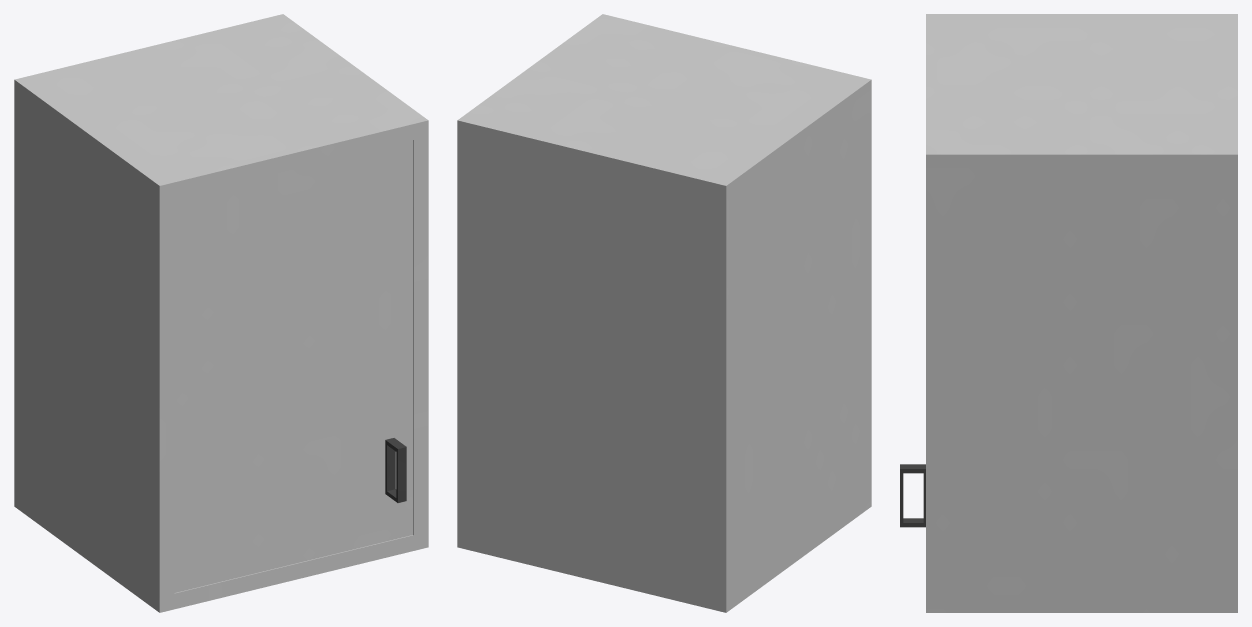
The model's file is Cabinet_03_01.fbx.
3 renders of one model, left to right at view 1: azimuth 30°, elevation 25°; view 2: azimuth 150°, elevation 25°; view 3: azimuth 270°, elevation 25°, orthographic. The views are drawn at different scales.
Visible parts, largest first — view 1: Cabinet_03_01, Cabinet_03_Door.001; view 2: Cabinet_03_01; view 3: Cabinet_03_01, Cabinet_03_Door.001.
Part boxes in pixels (left/top/right/bottom): Cabinet_03_01: left=14, top=14, right=428, bottom=612; Cabinet_03_Door.001: left=174, top=140, right=412, bottom=592; Cabinet_03_01: left=457, top=14, right=871, bottom=612; Cabinet_03_01: left=926, top=14, right=1237, bottom=612; Cabinet_03_Door.001: left=900, top=464, right=925, bottom=527.
Size of the model in its own units: 0.5858 by 0.889 by 0.5941.
